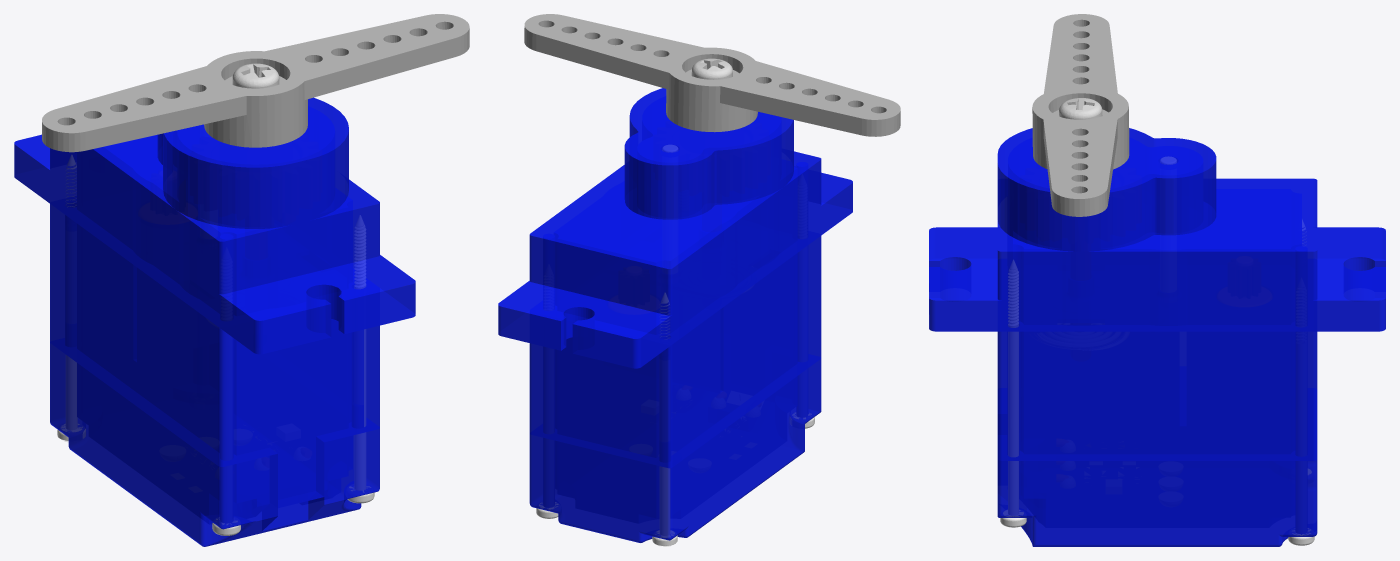
File: servo.glb
3 views of the same model, side by side, from view 1: azimuth 30°, elevation 25°; view 2: azimuth 150°, elevation 25°; view 3: azimuth 270°, elevation 25° (orthographic). The views are drawn at different scales.
Visible parts, largest first — view 1: azul_Transparente_002-material, azul_Transparente_002-material.001, Protoboard_004-material, aluminio_002-material.001, Metal_006-material; view 2: azul_Transparente_002-material, azul_Transparente_002-material.001, Protoboard_004-material, aluminio_002-material.001, Metal_006-material; view 3: azul_Transparente_002-material, azul_Transparente_002-material.001, Protoboard_004-material, aluminio_002-material.001, Metal_006-material.
Part boxes in pixels (x1=…): azul_Transparente_002-material: x1=14, y1=97, x2=415, y2=546; azul_Transparente_002-material.001: x1=50, y1=202, x2=415, y2=508; Protoboard_004-material: x1=42, y1=14, x2=469, y2=152; aluminio_002-material.001: x1=57, y1=155, x2=374, y2=503; Metal_006-material: x1=232, y1=63, x2=279, y2=88; azul_Transparente_002-material: x1=498, y1=88, x2=852, y2=542; azul_Transparente_002-material.001: x1=529, y1=232, x2=821, y2=468; Protoboard_004-material: x1=524, y1=14, x2=900, y2=136; aluminio_002-material.001: x1=652, y1=293, x2=677, y2=546; Metal_006-material: x1=691, y1=58, x2=732, y2=79; azul_Transparente_002-material: x1=929, y1=128, x2=1385, y2=546; azul_Transparente_002-material.001: x1=929, y1=263, x2=1317, y2=460; Protoboard_004-material: x1=1032, y1=14, x2=1129, y2=216; aluminio_002-material.001: x1=1000, y1=220, x2=1311, y2=527; Metal_006-material: x1=1059, y1=98, x2=1102, y2=119.
Bounding box in the file's own units: 0.0321 × 0.0322 × 0.0326.
